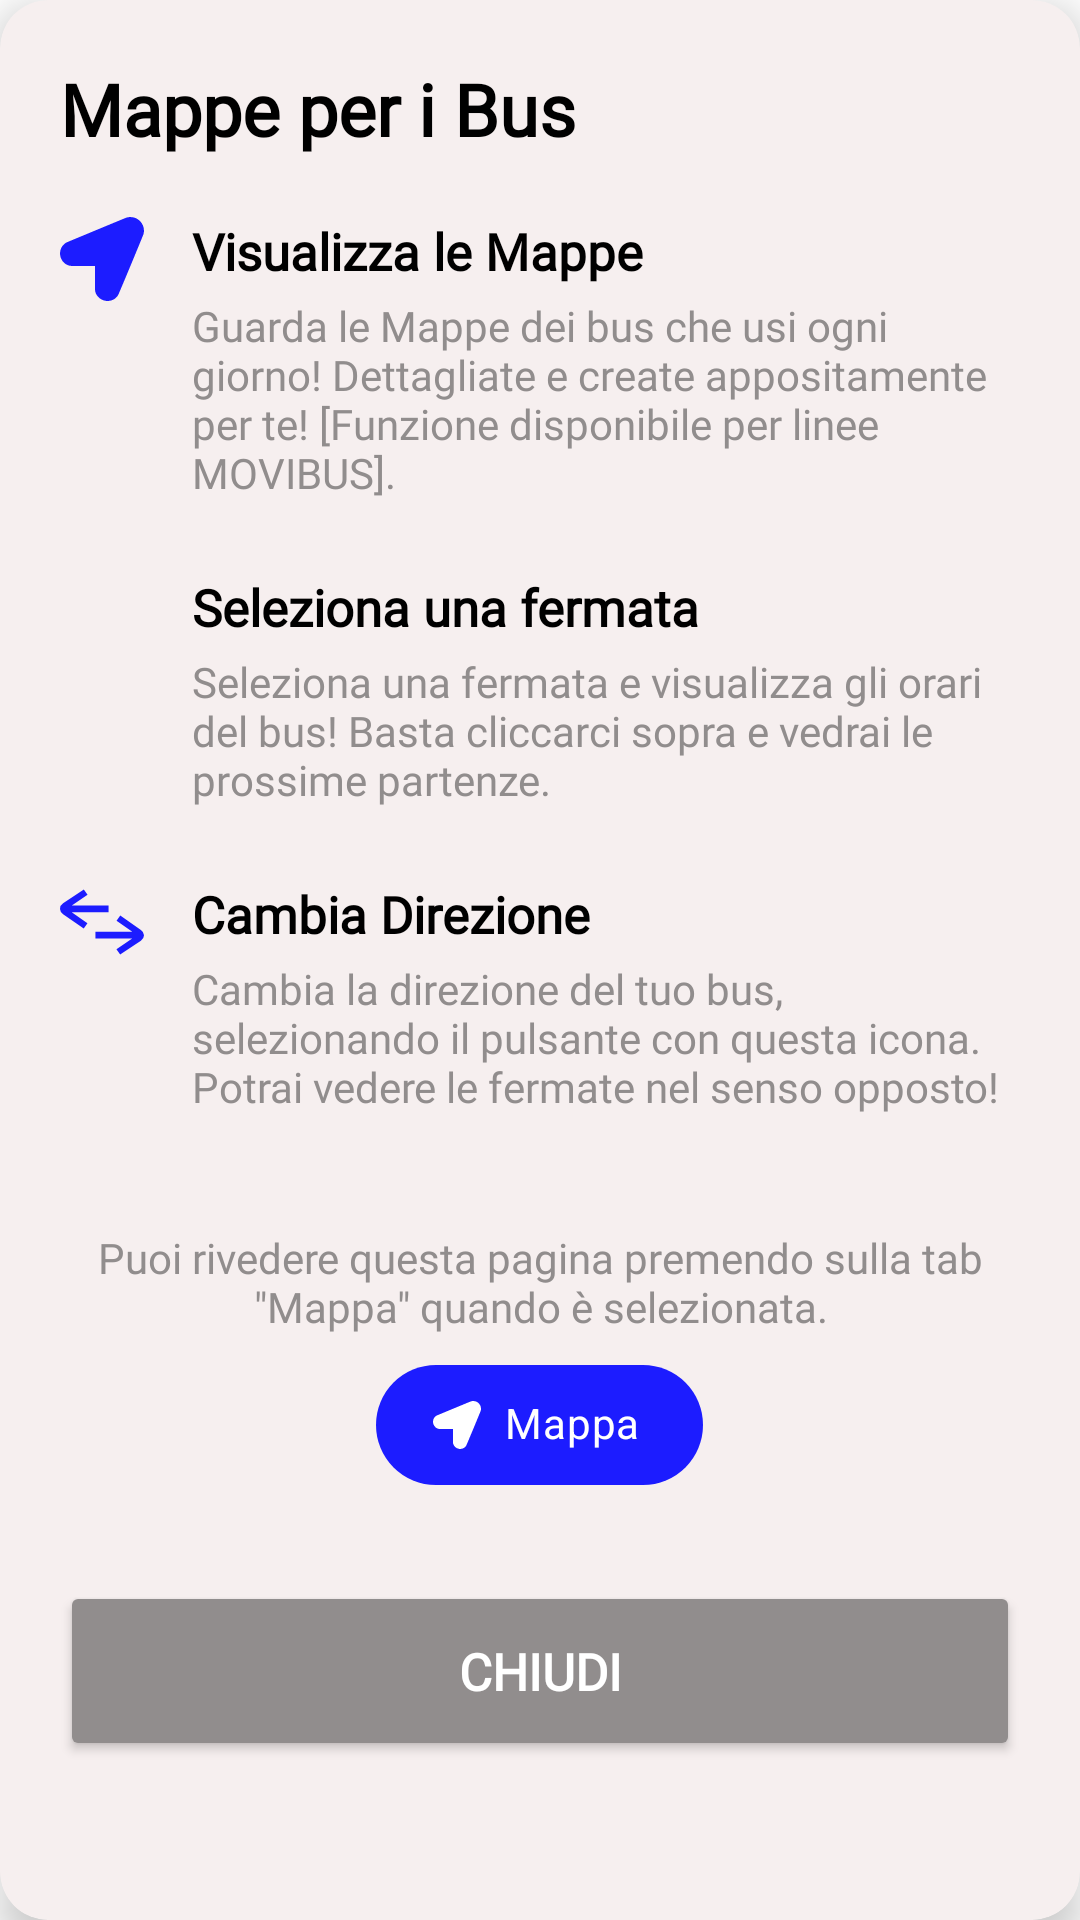

Named icons in this screenshot (1080 x 1920) and their centers, (x,y):
change route: (102,922)
location: (102,259)
